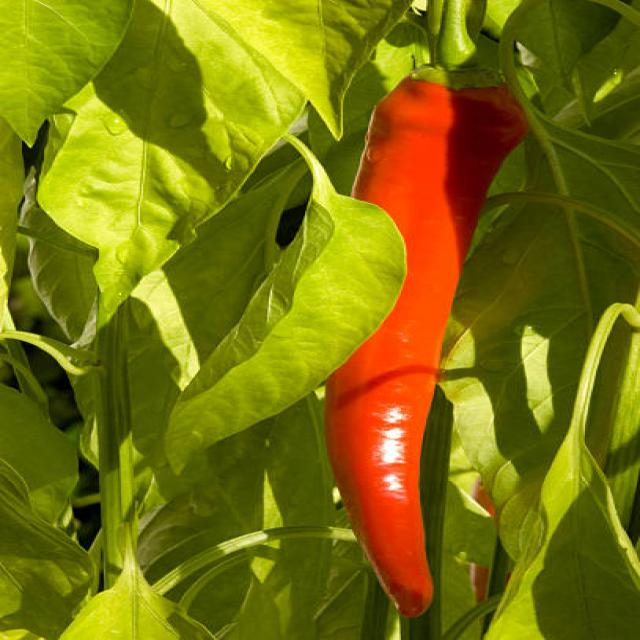Ripe: (327, 0, 528, 616)
